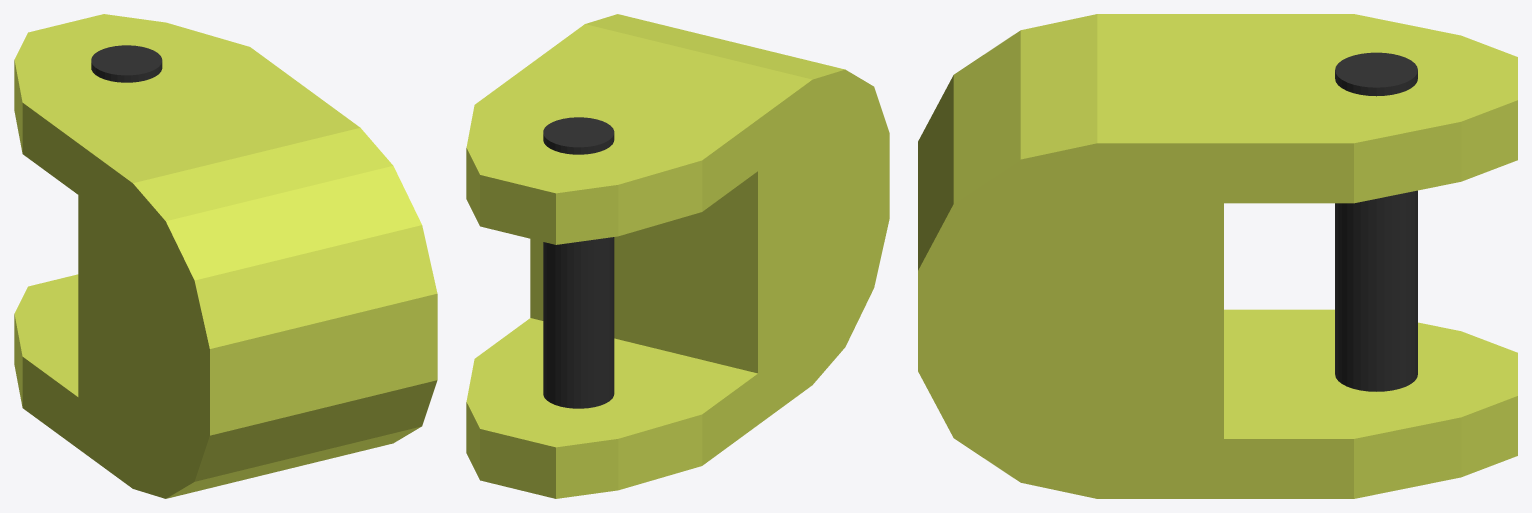
Rendered from r7000_hoist_mid.glb.
3 views of the same model, side by side, from view 1: azimuth 30°, elevation 25°; view 2: azimuth 150°, elevation 25°; view 3: azimuth 270°, elevation 25° (orthographic). The views are drawn at different scales.
Parts seen in each view (by area): view 1: Mid; view 2: Mid; view 3: Mid.
Part boxes in pixels (left/top/right/bottom): Mid: left=14, top=14, right=437, bottom=498; Mid: left=466, top=14, right=889, bottom=498; Mid: left=918, top=14, right=1517, bottom=498.
Size of the model in its own units: 2 by 2.69 by 3.92.
